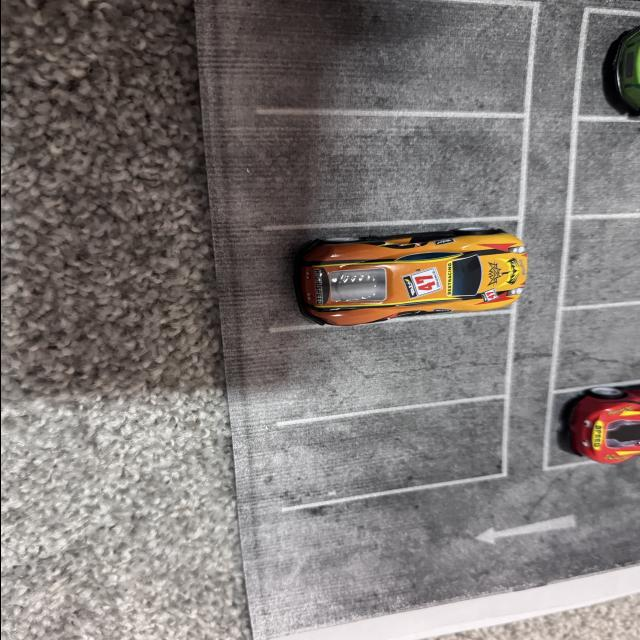Car: (314, 192, 562, 362), (451, 316, 640, 490), (536, 6, 640, 134)
